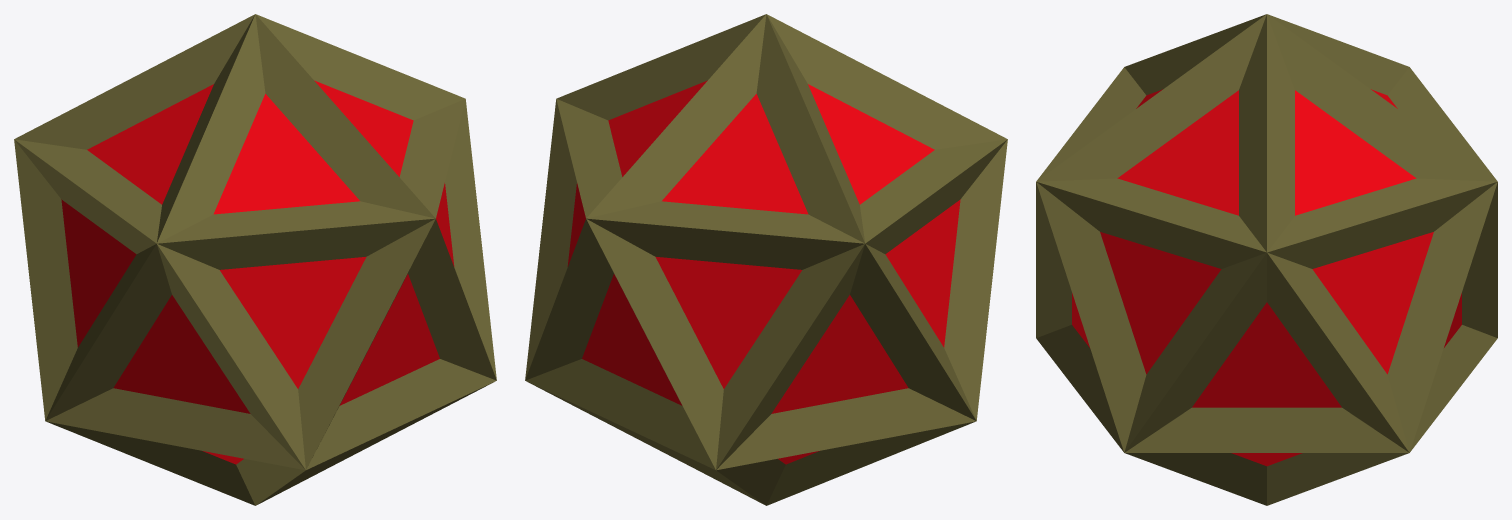
Rendered from PyroEssence.fbx.
3 renders of one model, left to right at view 1: azimuth 30°, elevation 25°; view 2: azimuth 150°, elevation 25°; view 3: azimuth 270°, elevation 25°, orthographic.
Visible parts, largest first — view 1: Icosphere; view 2: Icosphere; view 3: Icosphere.
Part boxes in pixels (x1,y1,x2,y2): Icosphere: (14,14,496,505); Icosphere: (525,14,1007,505); Icosphere: (1036,14,1497,505).
Size of the model in its own units: 179 by 200 by 170.
